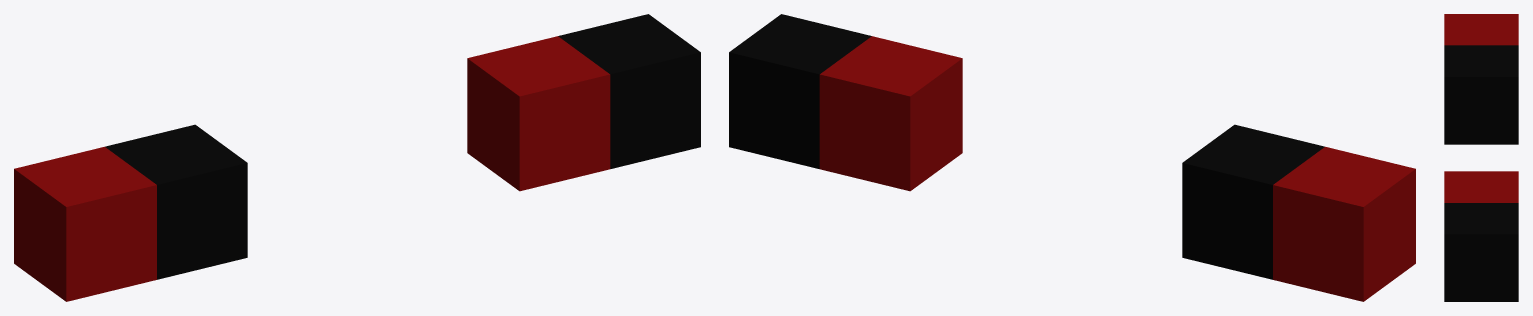
File: eyesLeft.vox.obj
The picture shows the model from 3 angles, left to right: view 1: azimuth 30°, elevation 25°; view 2: azimuth 150°, elevation 25°; view 3: azimuth 270°, elevation 25°; orthographic projection. The views are drawn at different scales.
Bounding box in the file's own units: 0.7 × 0.1 × 0.1.
1 material, 1 textured.
